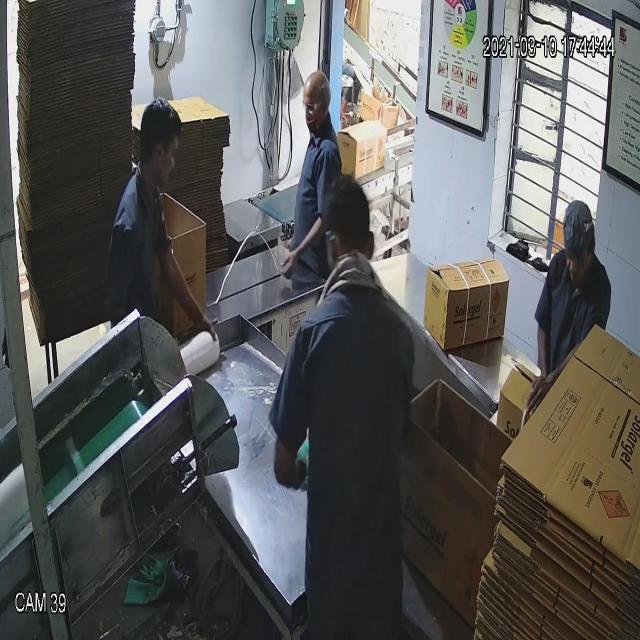No_Gloves: (59, 92, 300, 290)
